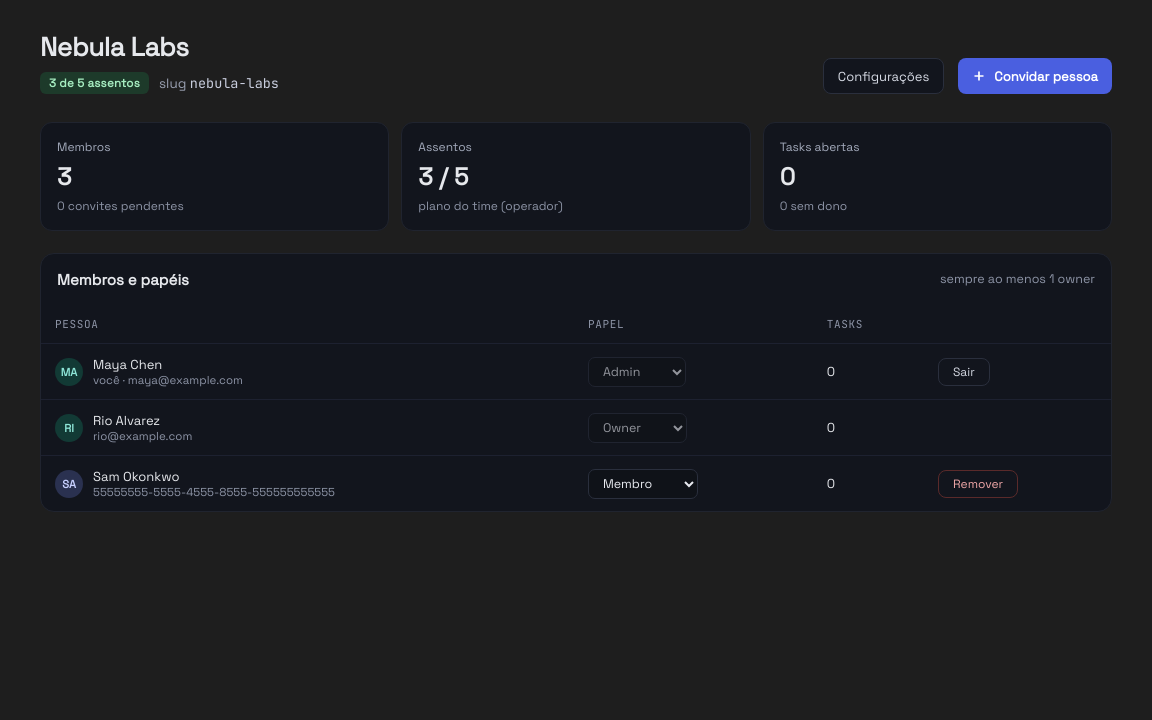
it: Team settings › an admin can rename but the delete is explained as owner-only
The image size is (1152, 720).
Expected: the heading "Nebula Labs" is shown, [40,30,189,64]
Click the button "Configurações" at point(884, 76), box [823,58,944,94]
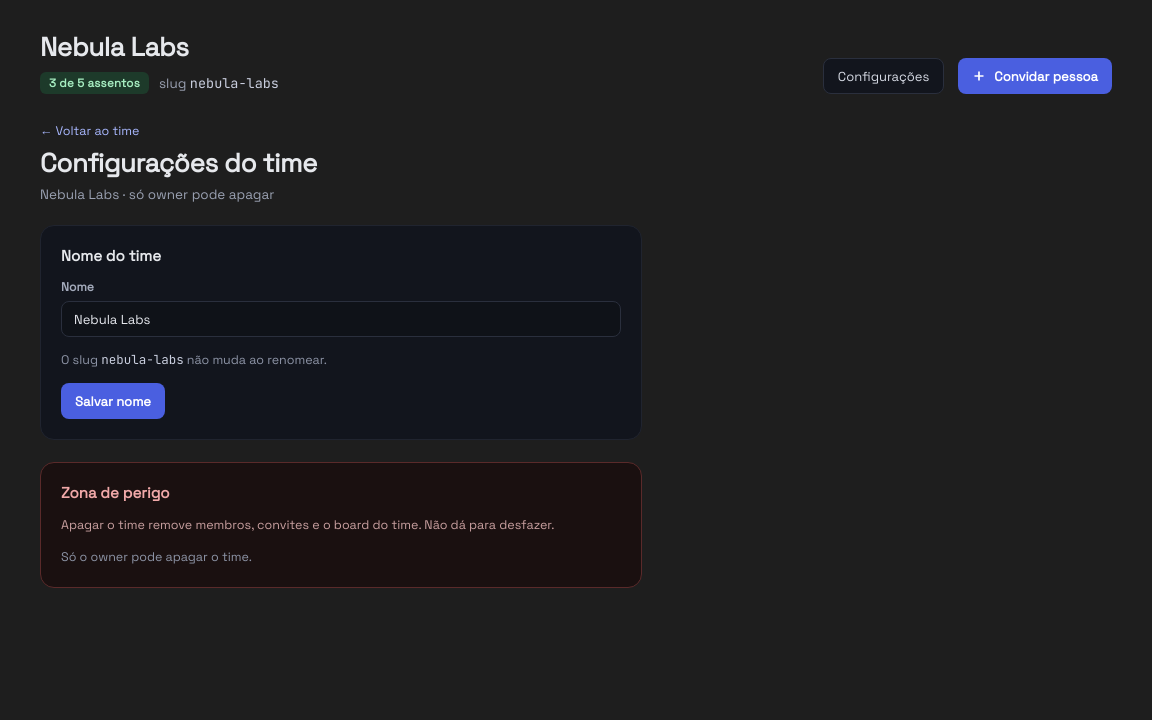
Expected: the heading "Configurações do time" is shown, [40,146,317,180]
Expected: the text "Só o owner pode apagar o time." is shown, [61,549,252,565]
